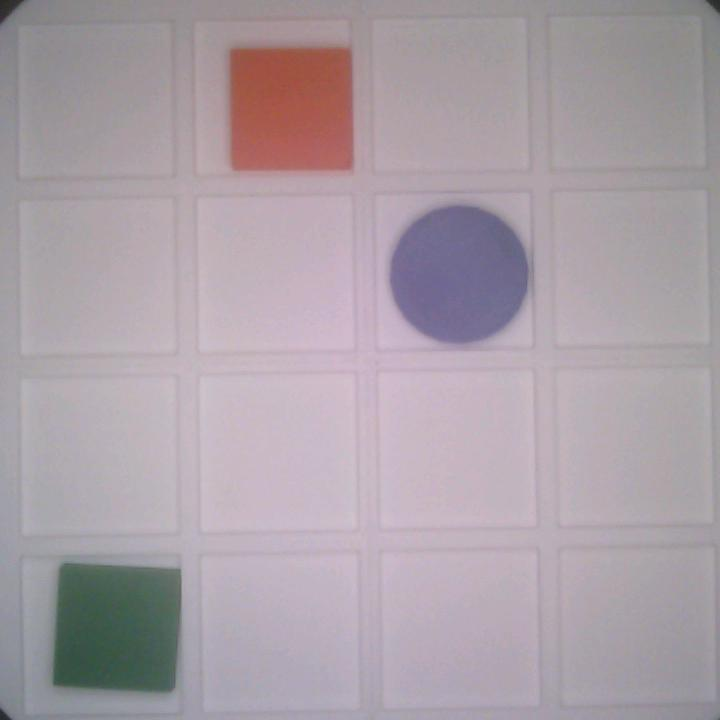Blue circle: (384, 200, 530, 343)
Green square: (53, 559, 187, 693)
Orange square: (228, 42, 361, 179)
